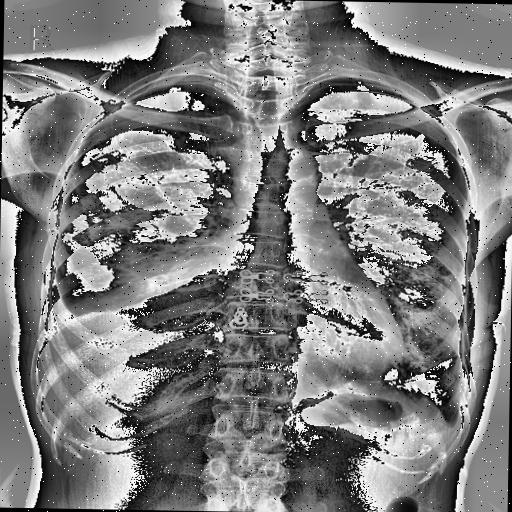10- Pleural effusion: (20, 244, 224, 392), (44, 252, 224, 388), (54, 266, 236, 352), (439, 410, 470, 450)
11- Pleural thickening: (142, 73, 236, 93), (439, 410, 470, 450), (444, 414, 462, 436)
7- Lung Opacity: (74, 254, 212, 316)
